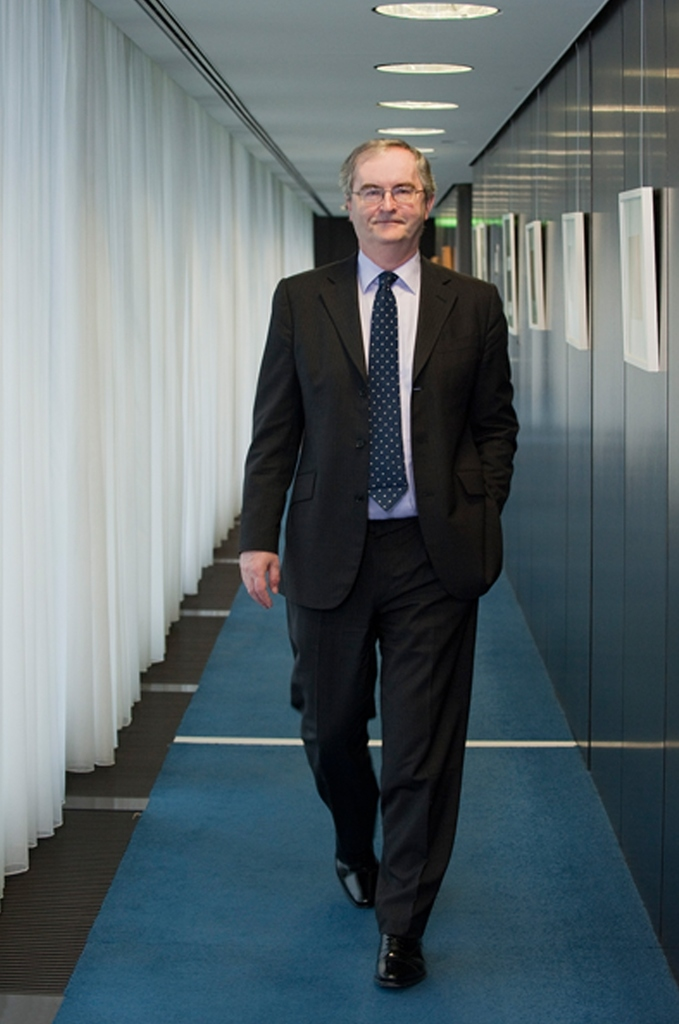Footwear: (368, 935, 437, 1000), (332, 855, 389, 911)
